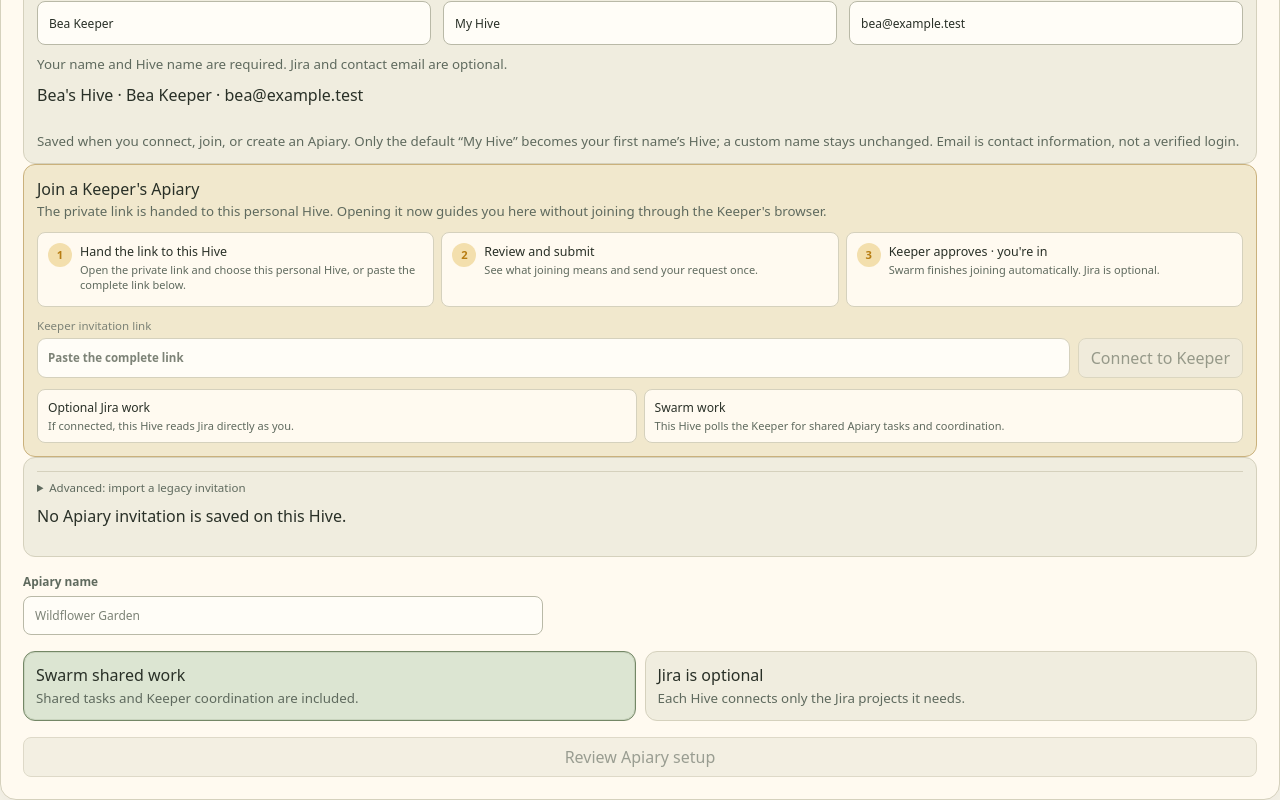
creates Apiary after saving its reviewed profile; refresh fails=true
(page scrolled)
Expected: the text "Jira is optional" is shown, [658, 664, 764, 686]
Expected: the field showing "Bea Keeper" is shown, [37, 1, 431, 45]
Step 1. Type "  Wildflower Garden  " into the field labelled "Apiary name" → (283, 616), box [23, 596, 543, 635]
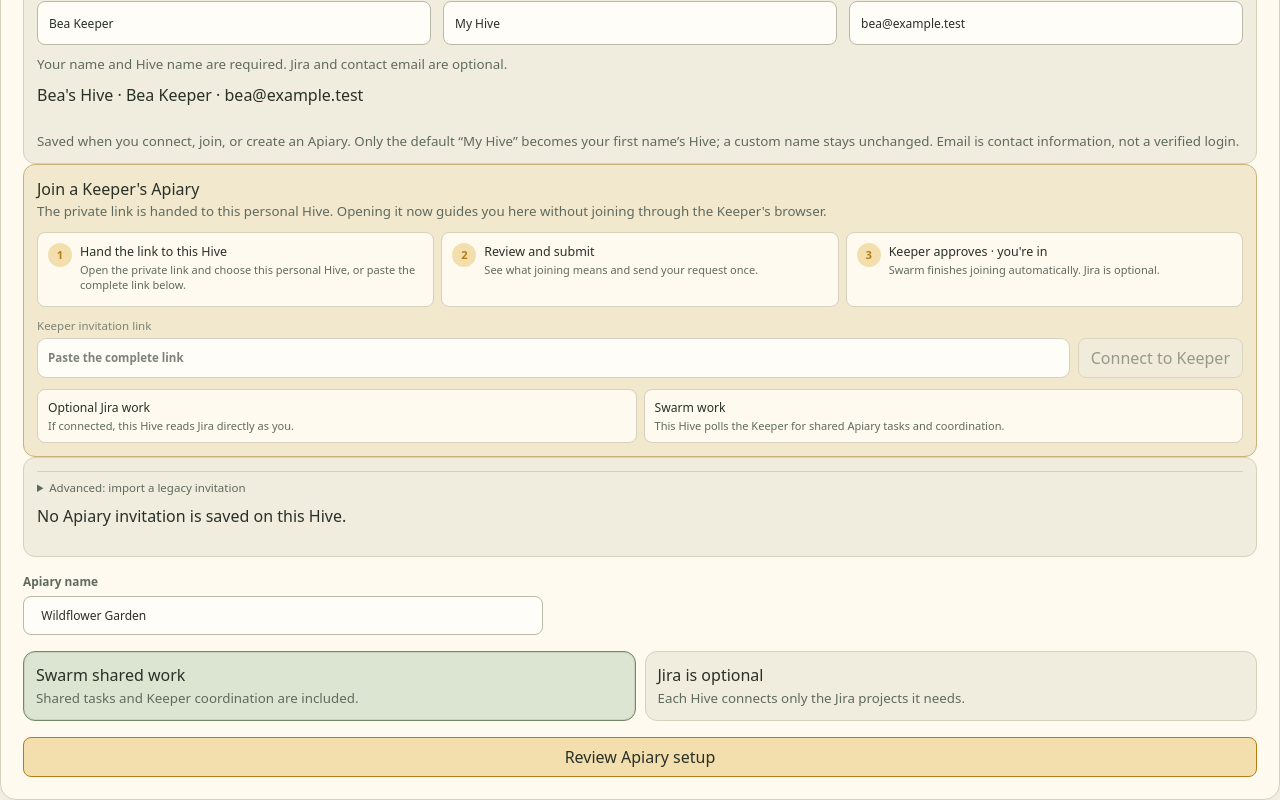
Now the button "Review Apiary setup" is enabled
Step 2. Click the button "Review Apiary setup" → (640, 757), box [23, 737, 1257, 777]
(page scrolled)
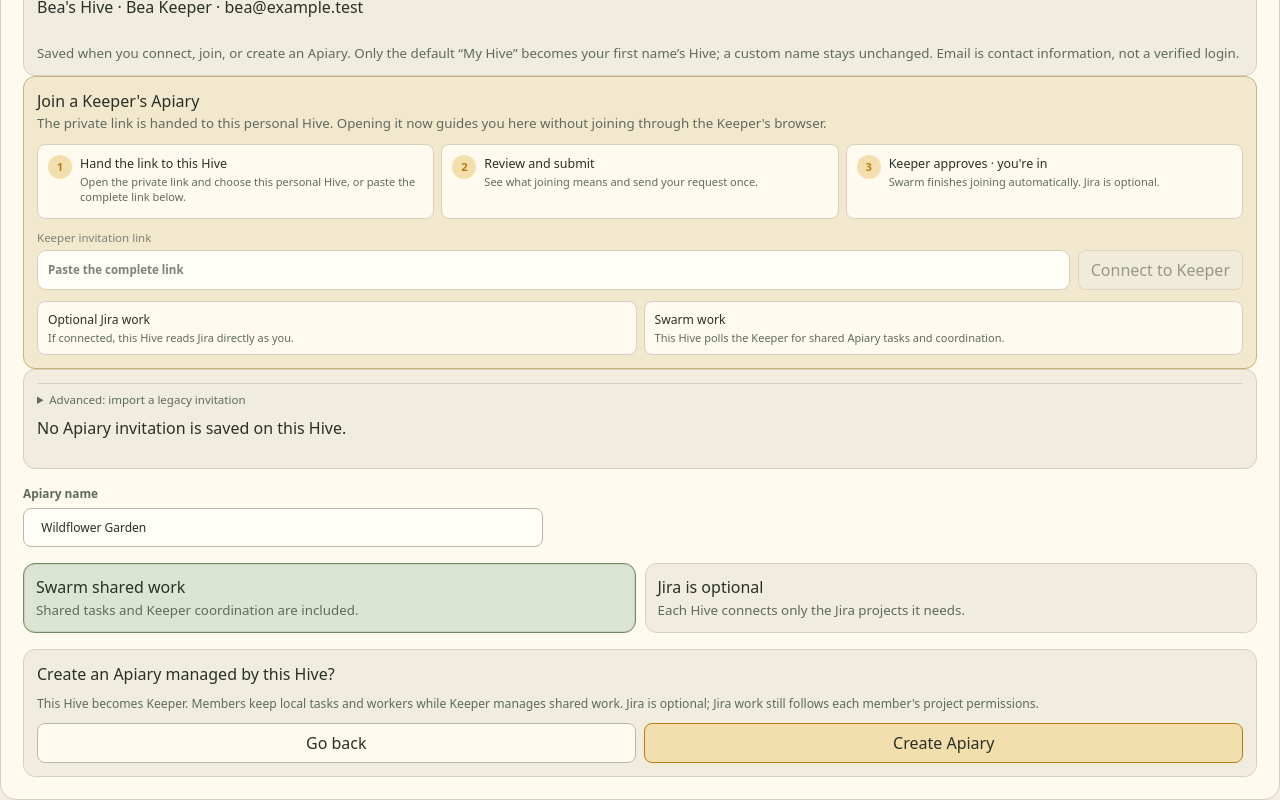
Now the element named "Confirm Apiary setup" shows "Members keep local tasks and workers", box [37, 695, 1039, 712]
Step 3. Click the button "Create Apiary" → (944, 743), box [644, 723, 1243, 763]
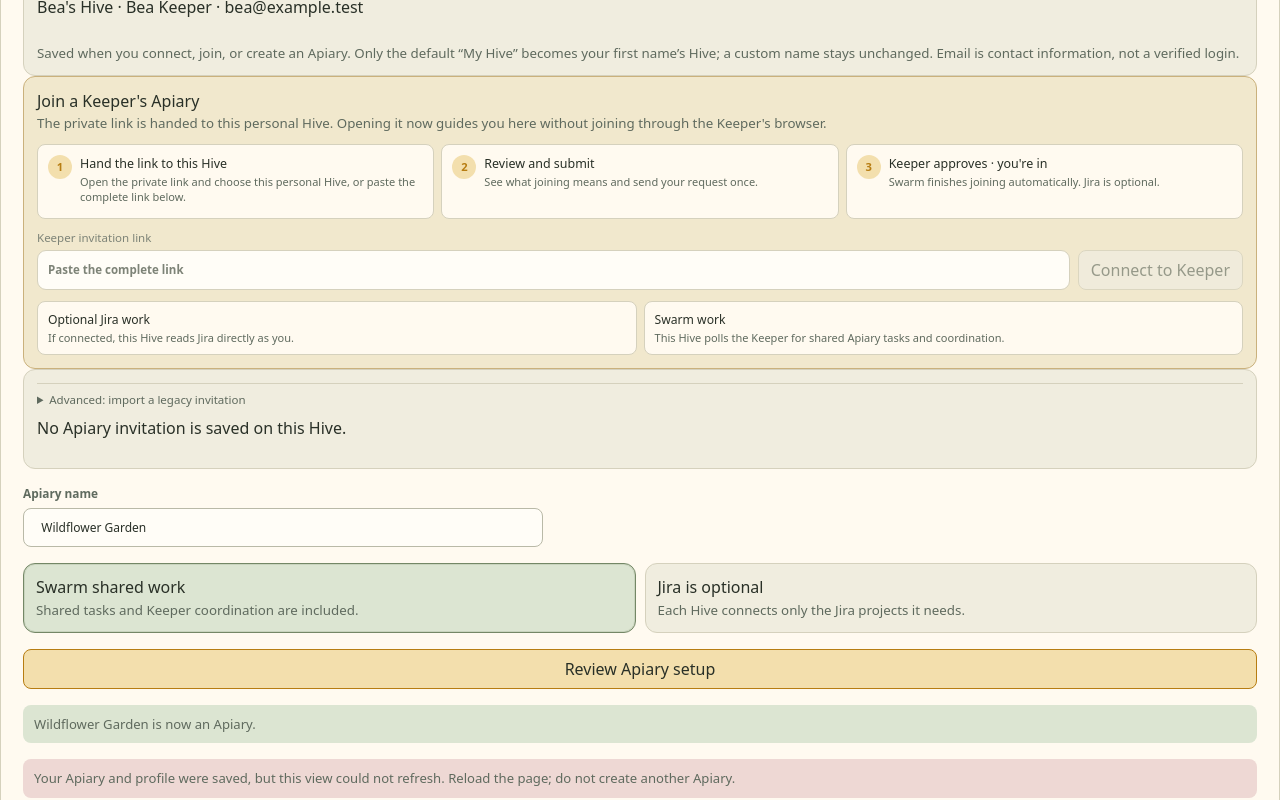
Now the 2nd message shows "do not create another Apiary", box [34, 769, 735, 787]
Now the button "Create Apiary" is gone
